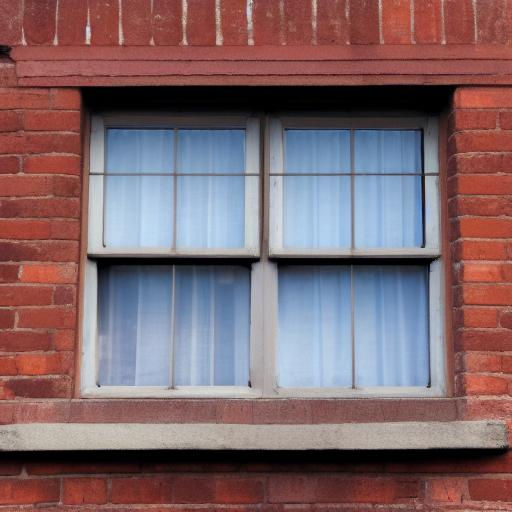Window: (1, 46, 512, 456)
